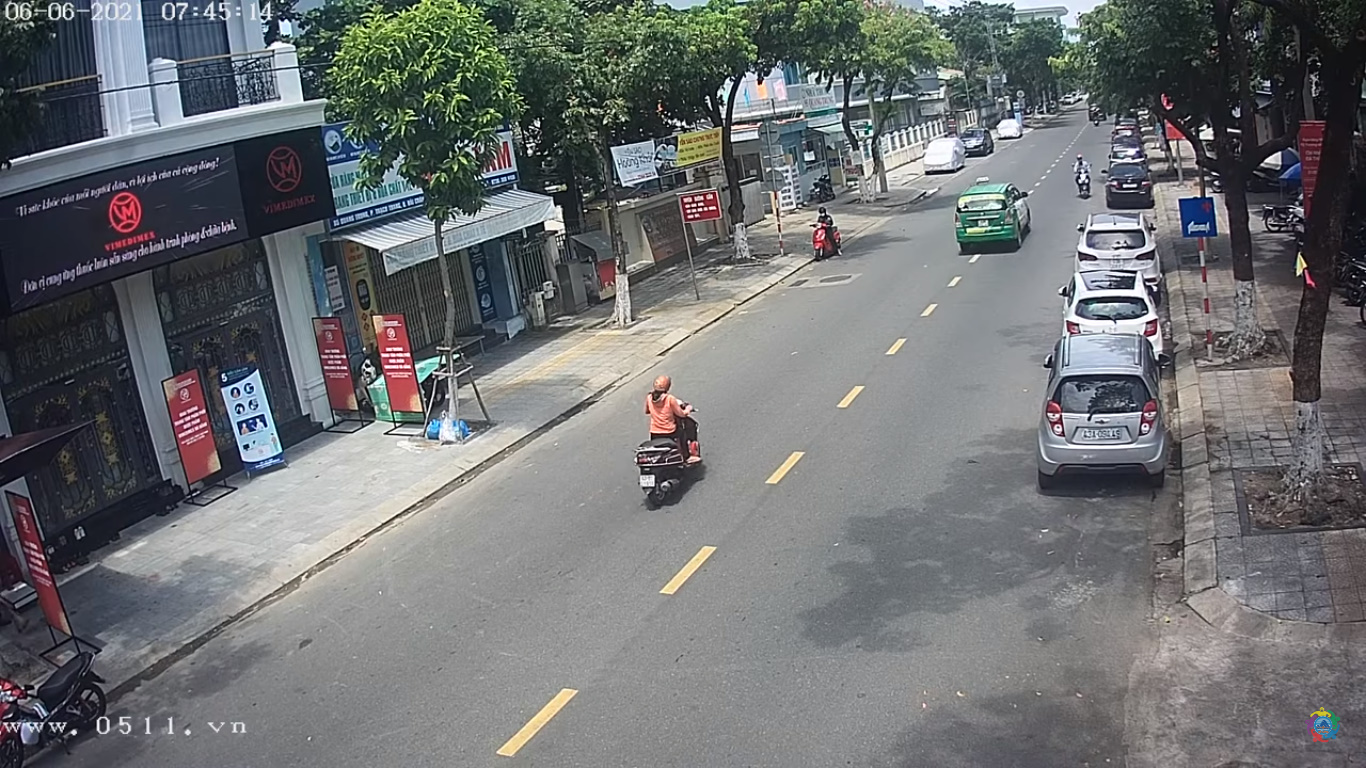car: (949, 179, 1037, 252)
